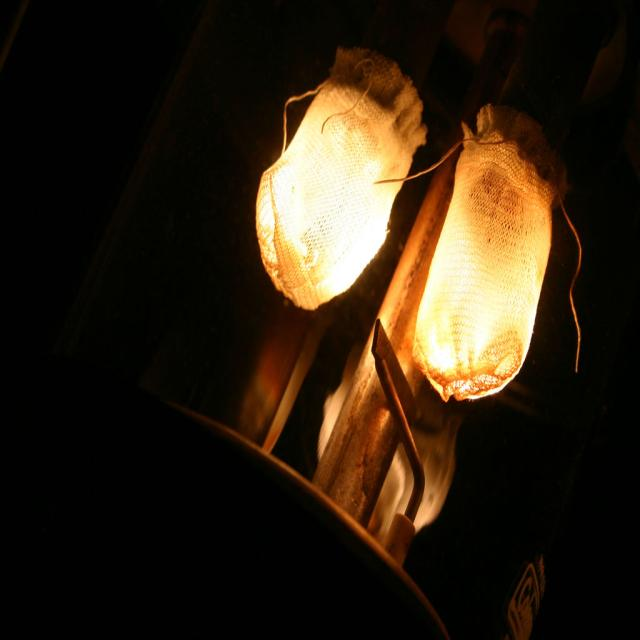no_fire: (212, 55, 594, 410)
